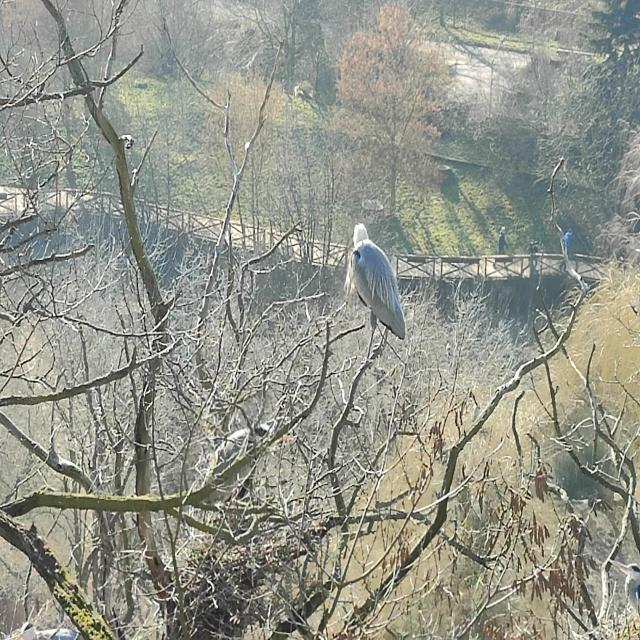bird: (344, 223, 406, 365), (609, 558, 640, 616)
